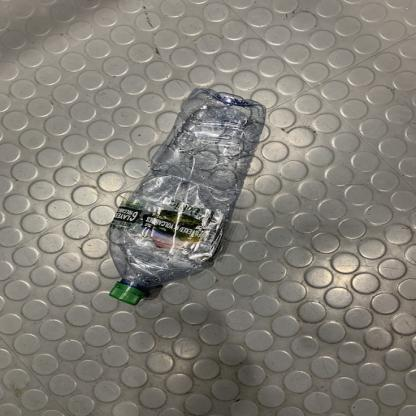trash: (106, 88, 268, 304)
